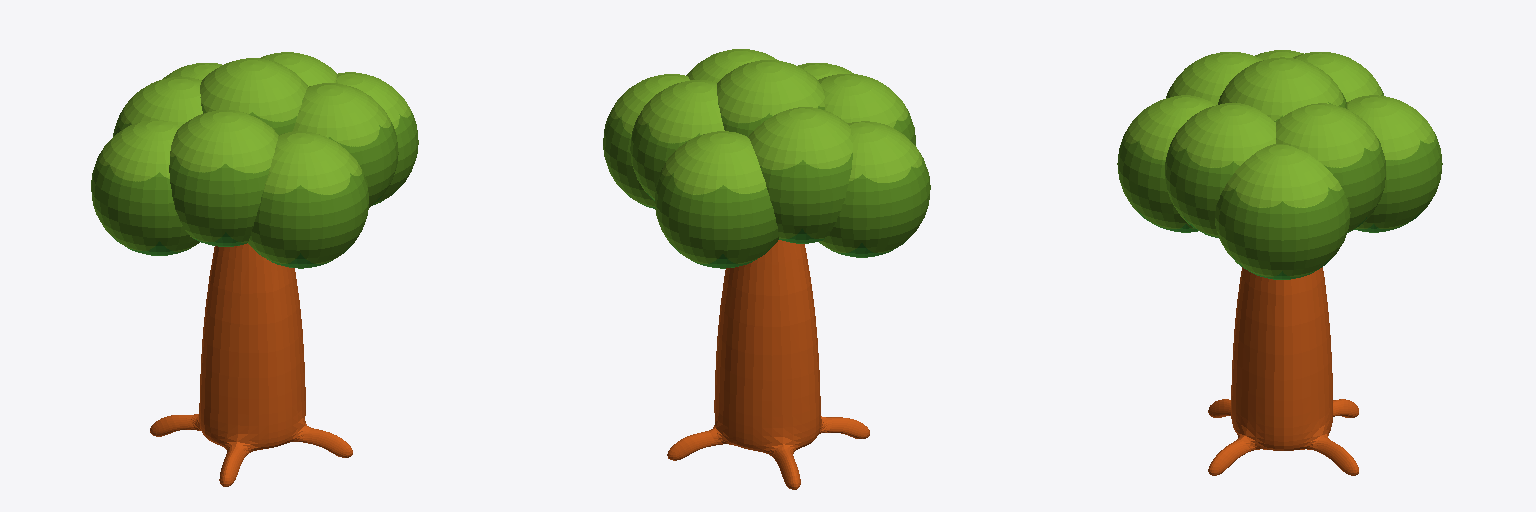
3 renders of one model, left to right at view 1: azimuth 30°, elevation 25°; view 2: azimuth 150°, elevation 25°; view 3: azimuth 270°, elevation 25°, orthographic.
Parts seen in each view (by area): view 1: Pohon_Cube, Daun.008_Sphere.008, Daun.001_Sphere, Daun.005_Sphere.005, Daun.004_Sphere.003, Daun_Sphere.004, Daun.002_Sphere.001, Daun.006_Sphere.006, Daun.003_Sphere.002, Daun.007_Sphere.007; view 2: Pohon_Cube, Daun.007_Sphere.007, Daun.002_Sphere.001, Daun.005_Sphere.005, Daun.003_Sphere.002, Daun_Sphere.004, Daun.006_Sphere.006, Daun.001_Sphere, Daun.004_Sphere.003; view 3: Pohon_Cube, Daun.006_Sphere.006, Daun.004_Sphere.003, Daun.007_Sphere.007, Daun.003_Sphere.002, Daun.008_Sphere.008, Daun_Sphere.004, Daun.001_Sphere, Daun.002_Sphere.001.
Part boxes in pixels (bbox=[...]): Pohon_Cube: bbox=[150, 243, 352, 486]; Daun.008_Sphere.008: bbox=[248, 131, 368, 268]; Daun.001_Sphere: bbox=[169, 110, 278, 246]; Daun.005_Sphere.005: bbox=[91, 121, 199, 255]; Daun.004_Sphere.003: bbox=[292, 83, 398, 207]; Daun_Sphere.004: bbox=[200, 58, 307, 134]; Daun.002_Sphere.001: bbox=[113, 77, 202, 136]; Daun.006_Sphere.006: bbox=[336, 72, 418, 204]; Daun.003_Sphere.002: bbox=[260, 52, 336, 86]; Daun.007_Sphere.007: bbox=[163, 63, 221, 79]; Pohon_Cube: bbox=[667, 240, 869, 489]; Daun.007_Sphere.007: bbox=[655, 131, 778, 268]; Daun.002_Sphere.001: bbox=[748, 107, 852, 243]; Daun.005_Sphere.005: bbox=[819, 121, 930, 257]; Daun.003_Sphere.002: bbox=[630, 80, 724, 200]; Daun_Sphere.004: bbox=[717, 60, 824, 136]; Daun.006_Sphere.006: bbox=[603, 74, 689, 208]; Daun.001_Sphere: bbox=[818, 74, 915, 145]; Daun.004_Sphere.003: bbox=[686, 49, 778, 82]; Pohon_Cube: bbox=[1208, 267, 1358, 475]; Daun.006_Sphere.006: bbox=[1215, 144, 1350, 279]; Daun.004_Sphere.003: bbox=[1165, 103, 1275, 237]; Daun.007_Sphere.007: bbox=[1347, 95, 1442, 232]; Daun.003_Sphere.002: bbox=[1276, 103, 1385, 232]; Daun.008_Sphere.008: bbox=[1117, 95, 1215, 232]; Daun_Sphere.004: bbox=[1218, 57, 1346, 121]; Daun.001_Sphere: bbox=[1166, 52, 1262, 104]; Daun.002_Sphere.001: bbox=[1293, 52, 1383, 101].
Bounding box in the file's own units: 21.35 × 25.2 × 19.43.
Materials: 6 (1 with a texture image).